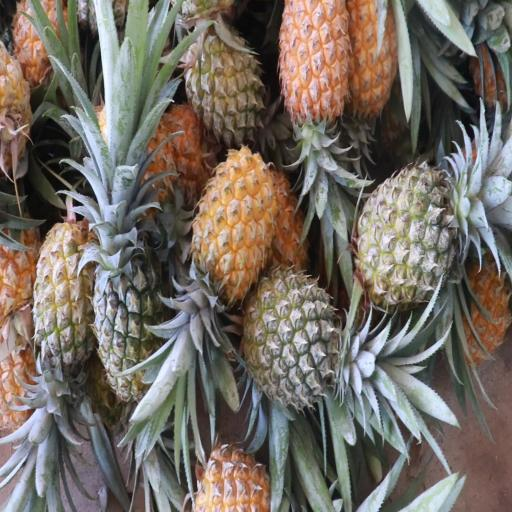------------------------------: (34, 217, 98, 389)
Pineapple - v8 v1: (278, 0, 348, 234), (196, 152, 267, 380), (349, 0, 397, 147)
